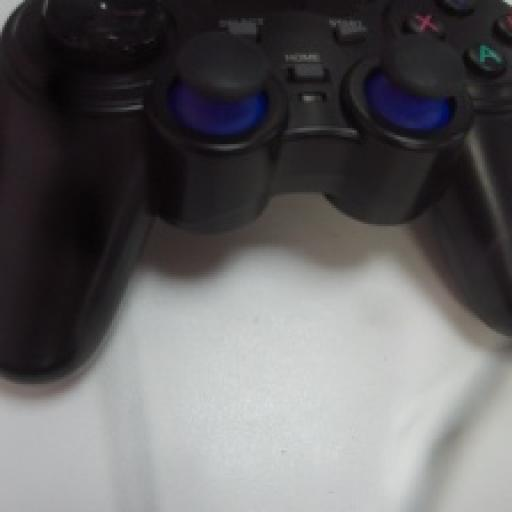game pad: (0, 0, 510, 377)
